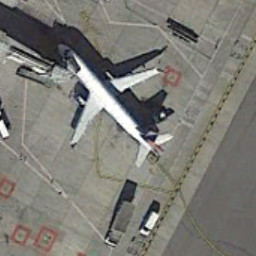Airplane: (44, 35, 179, 171)
